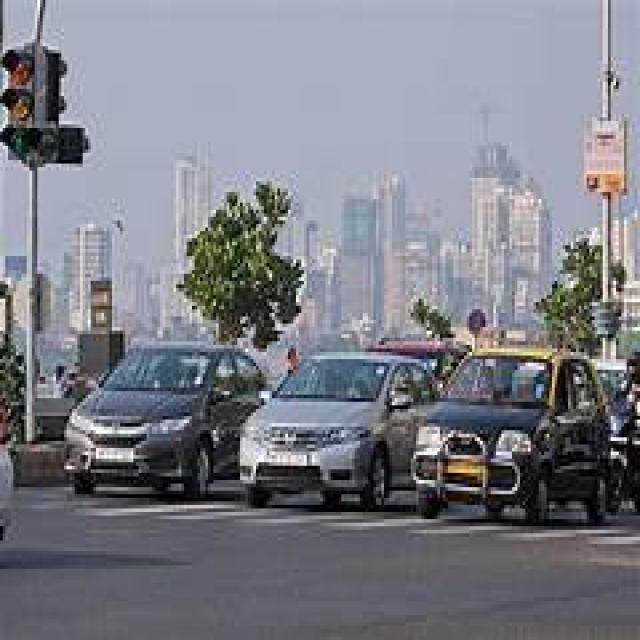Car: (65, 343, 610, 522)
